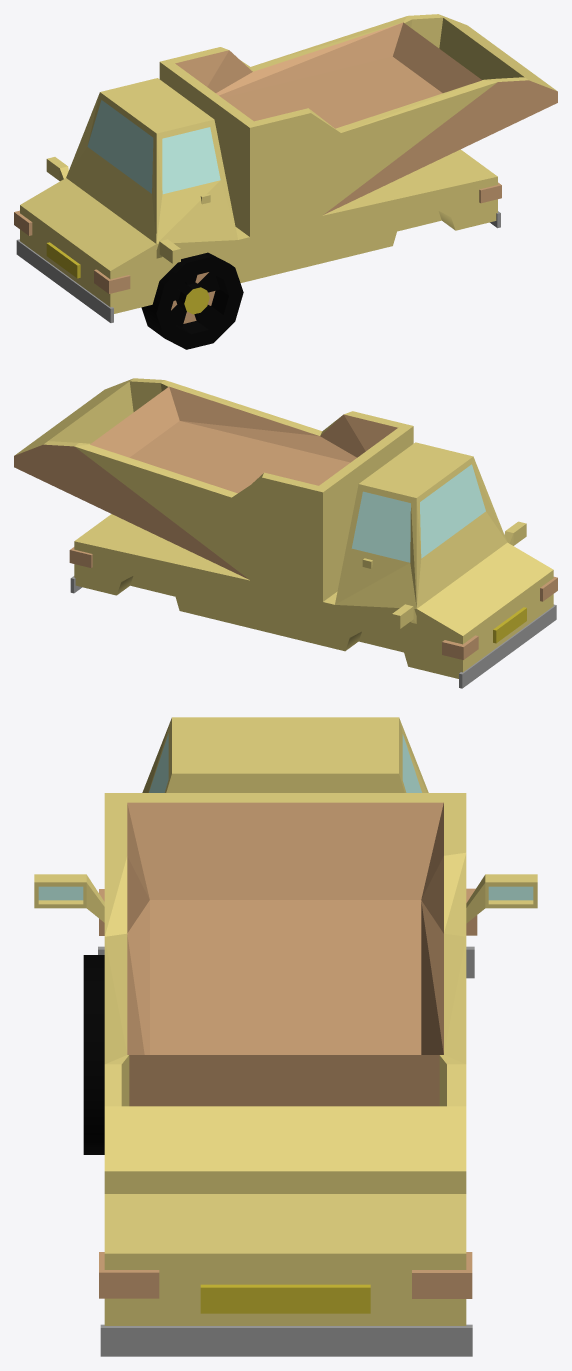
Rendered from MineCart.fbx.
3 views of the same model, one above another, from view 1: azimuth 30°, elevation 25°; view 2: azimuth 150°, elevation 25°; view 3: azimuth 270°, elevation 25° (orthographic). The views are drawn at different scales.
Parts seen in each view (by area): view 1: Box083, Cylinder095, Box085; view 2: Box083, Box085; view 3: Box083, Box085, Cylinder095.
Part boxes in pixels (<box>): Box083: <box>14,14,557,322</box>; Cylinder095: <box>141,252,243,349</box>; Box085: <box>46,242,80,278</box>; Box083: <box>14,378,557,688</box>; Box085: <box>493,607,526,643</box>; Box083: <box>34,717,537,1356</box>; Box085: <box>200,1284,370,1313</box>; Cylinder095: <box>83,955,104,1154</box>.
Bounding box in the file's own units: 166 × 71.17 × 80.39.
Materials: 8 (8 with a texture image).
